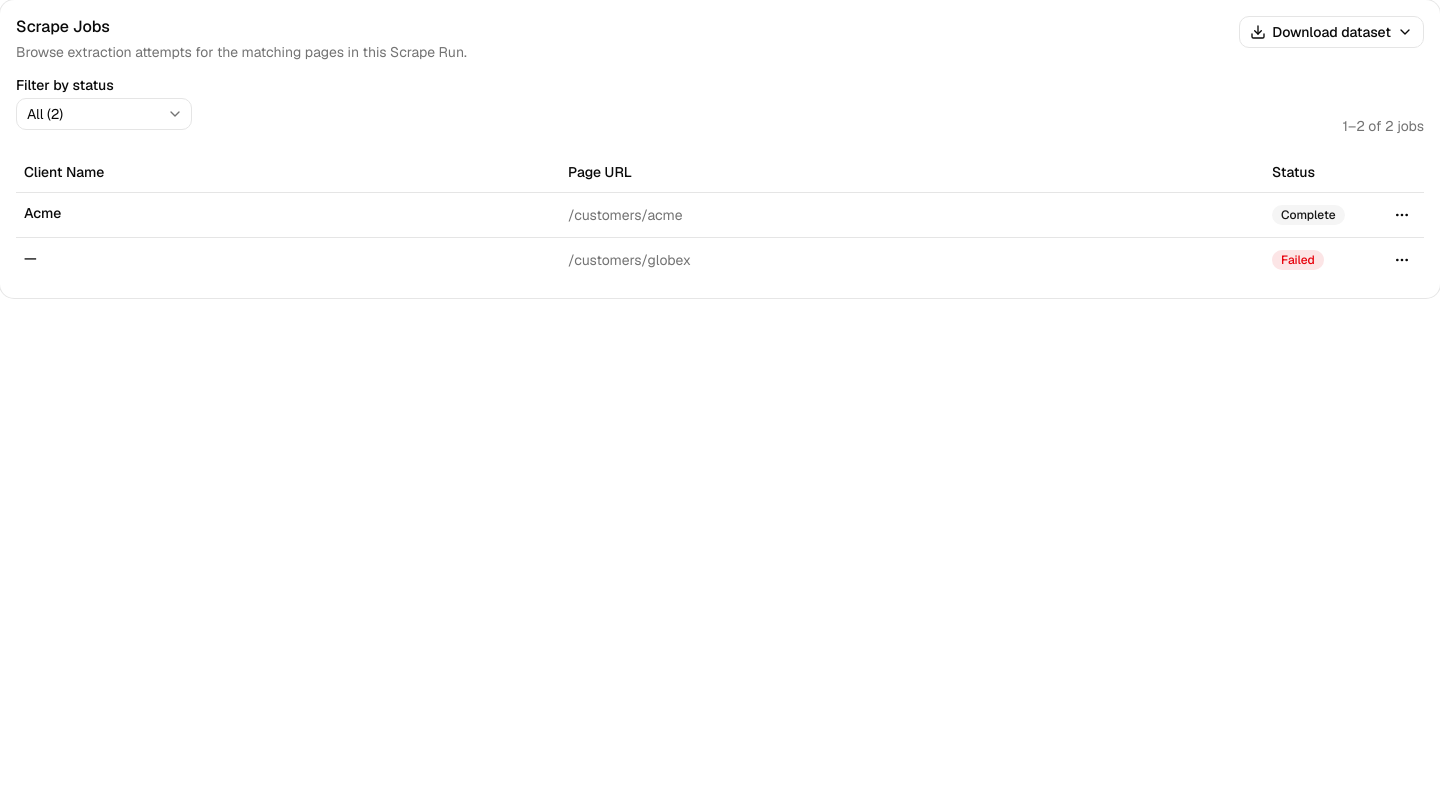
Extraction Dataset download › restores the control without retrying after a malformed API failure
The width and height of the screenshot is (1440, 810).
Click the button "Download dataset".
click(1332, 32)  # box 1239,16 -> 1424,48
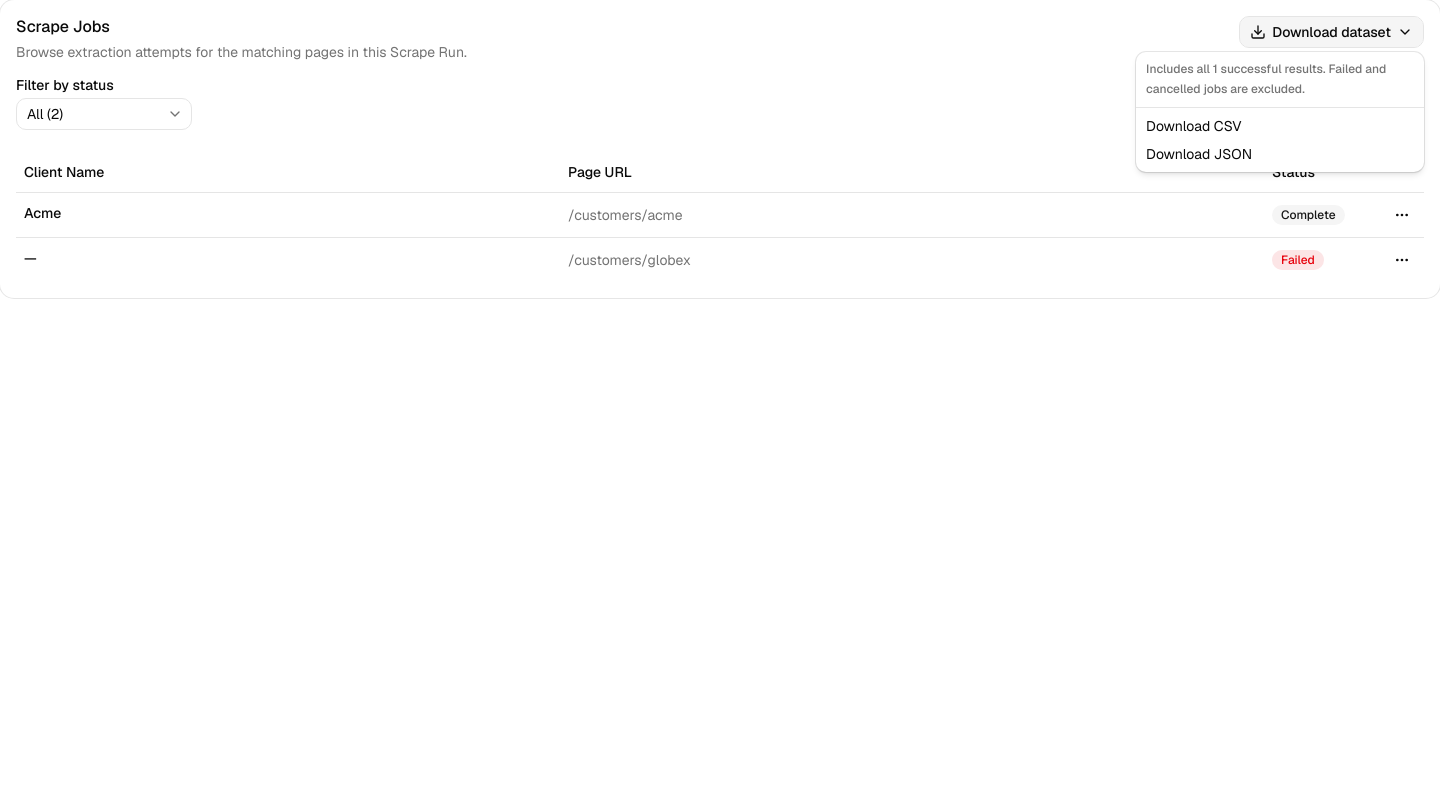
Click the menu item "Download JSON".
click(1199, 154)  # box 1146,145 -> 1252,163
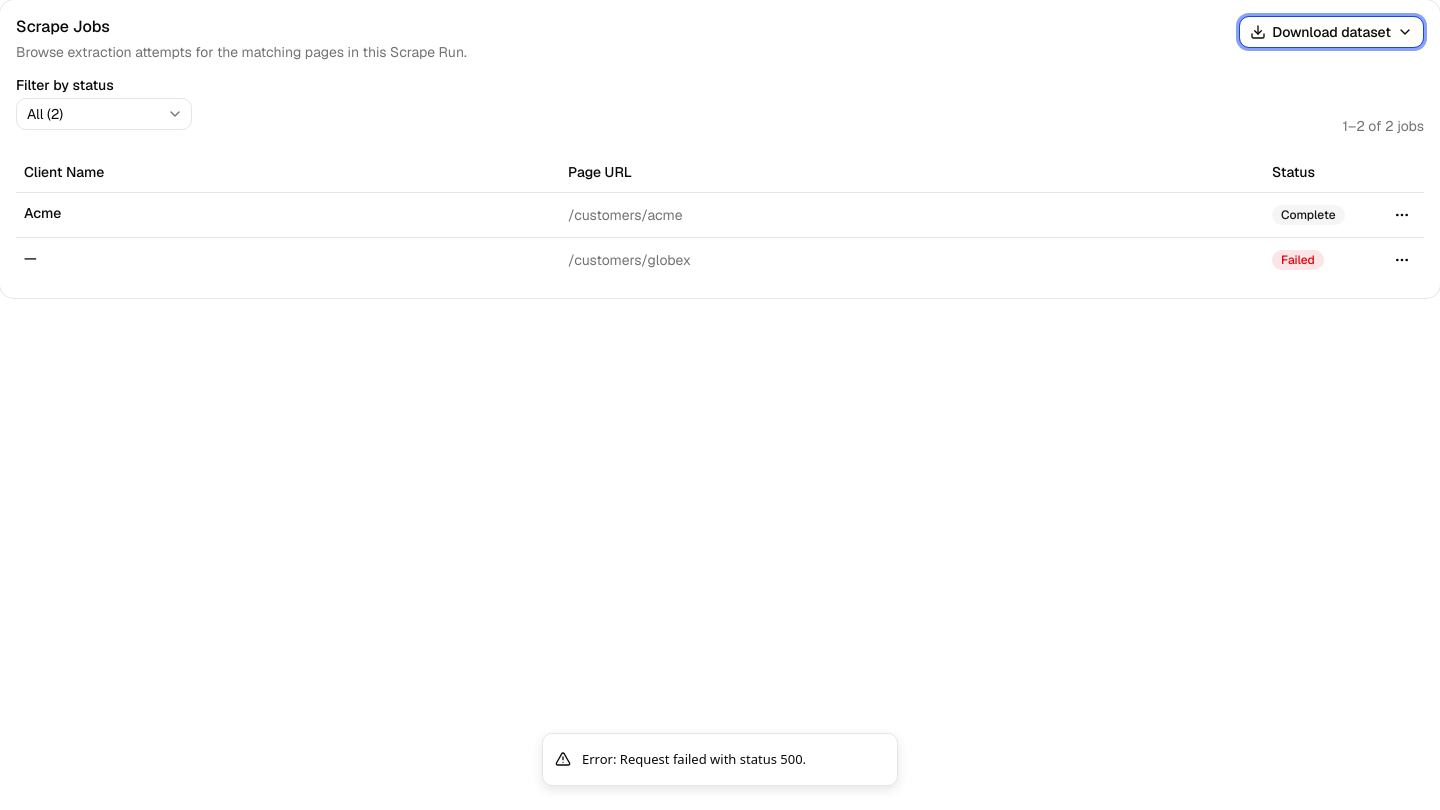
Expected: the button "Download dataset" is enabled, 1239,16 -> 1424,48
Result: the text "Error: Request failed with status 500." is shown once at 582,750 -> 806,769
